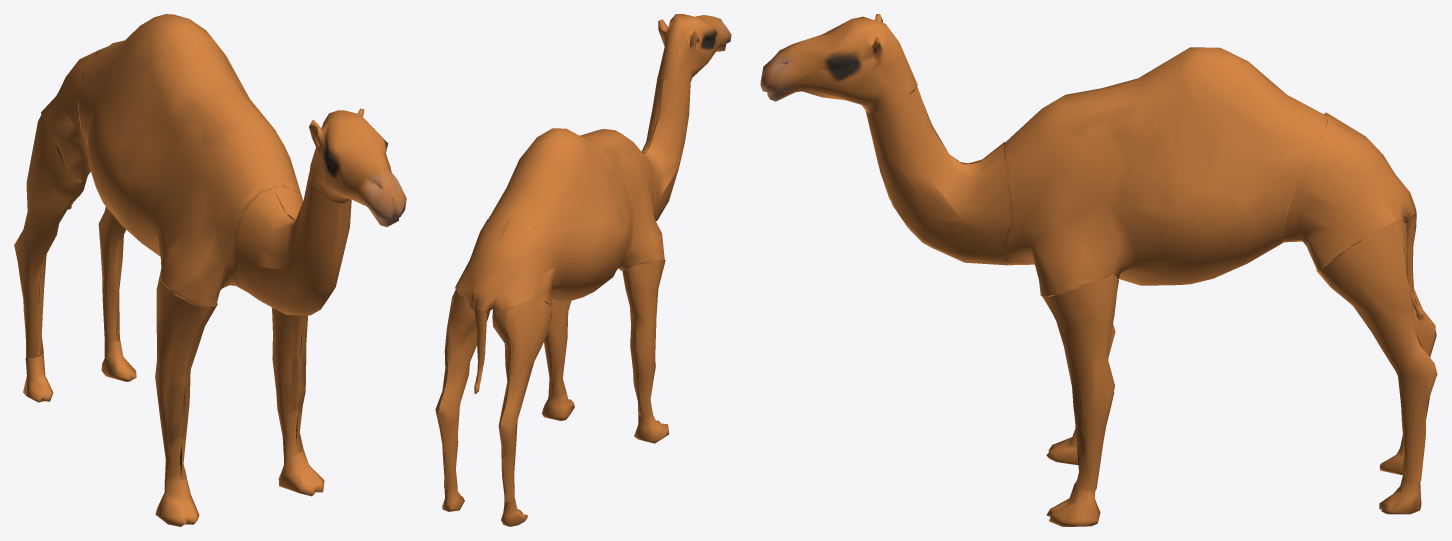
The model's file is camel.glb.
3 renders of one model, left to right at view 1: azimuth 30°, elevation 25°; view 2: azimuth 150°, elevation 25°; view 3: azimuth 270°, elevation 25°, orthographic. The views are drawn at different scales.
Parts seen in each view (by area): view 1: Object_4; view 2: Object_4; view 3: Object_4.
Part boxes in pixels (x1,y1,x2,y2): Object_4: (14,14,406,526); Object_4: (435,14,731,526); Object_4: (760,14,1437,526).
Bounding box in the file's own units: 0.7023 × 1.97 × 2.56.
1 material, 1 textured.
